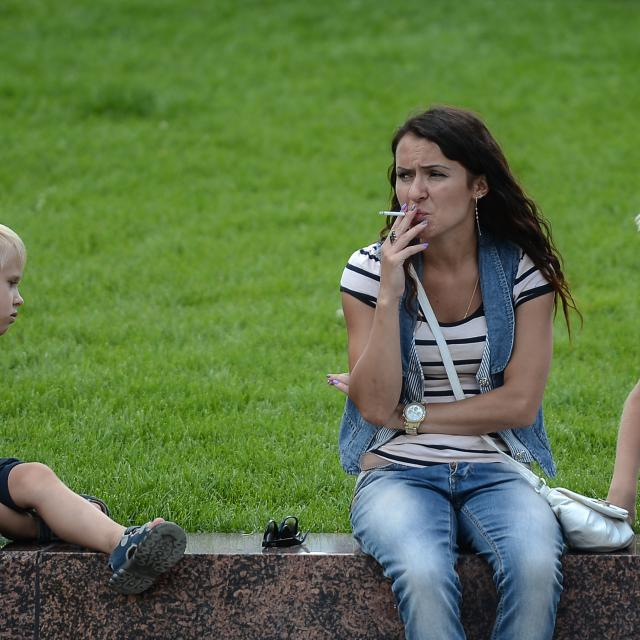smoke: (377, 206, 411, 221)
